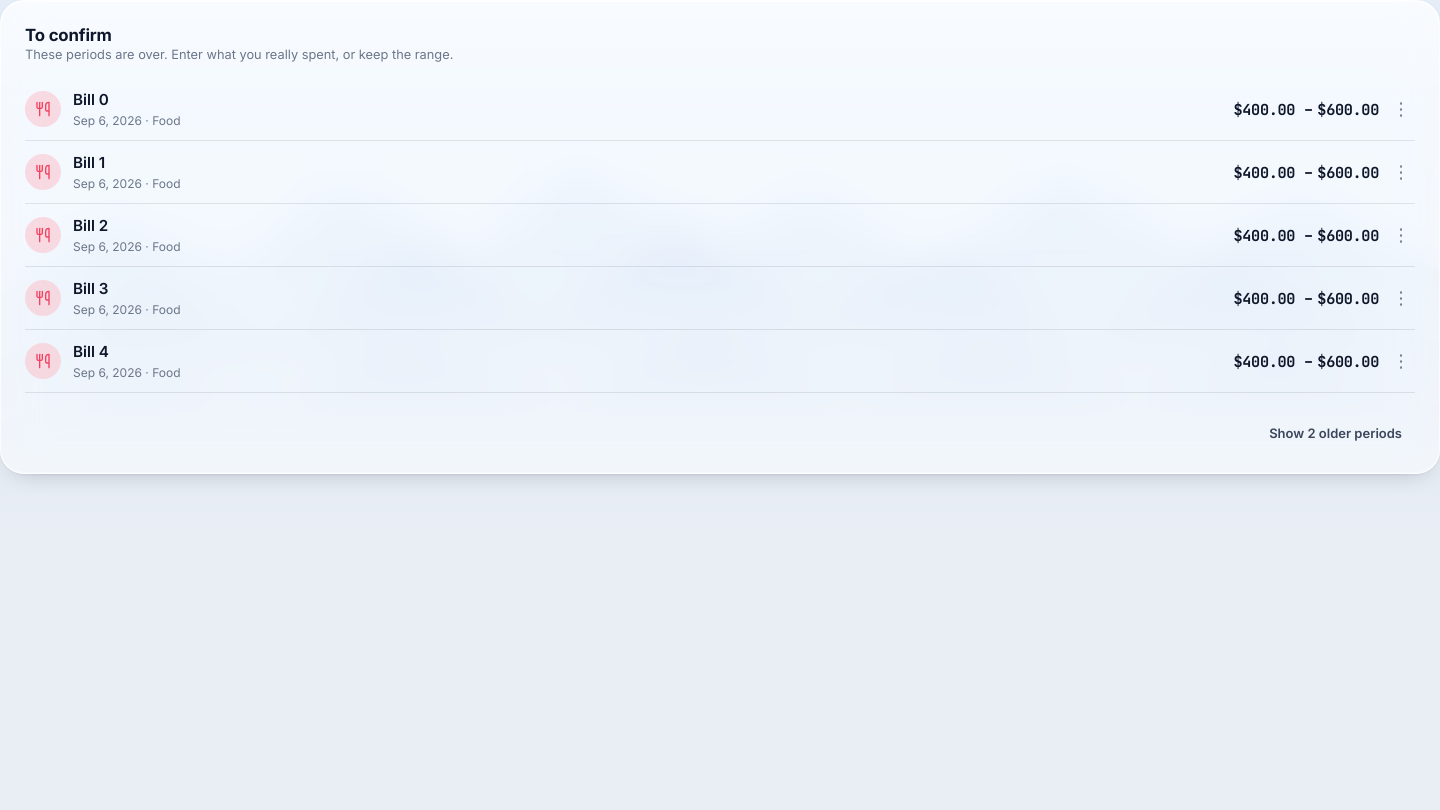
PendingConfirmations cap › shows the newest few and the older ones on demand
Expected: the text "Bill 4" is shown, [73, 342, 109, 361]
Expected: the text "Bill 5" is not shown
Click the button "Show 2 older periods" at point(1336, 433), box [1256, 417, 1415, 449]
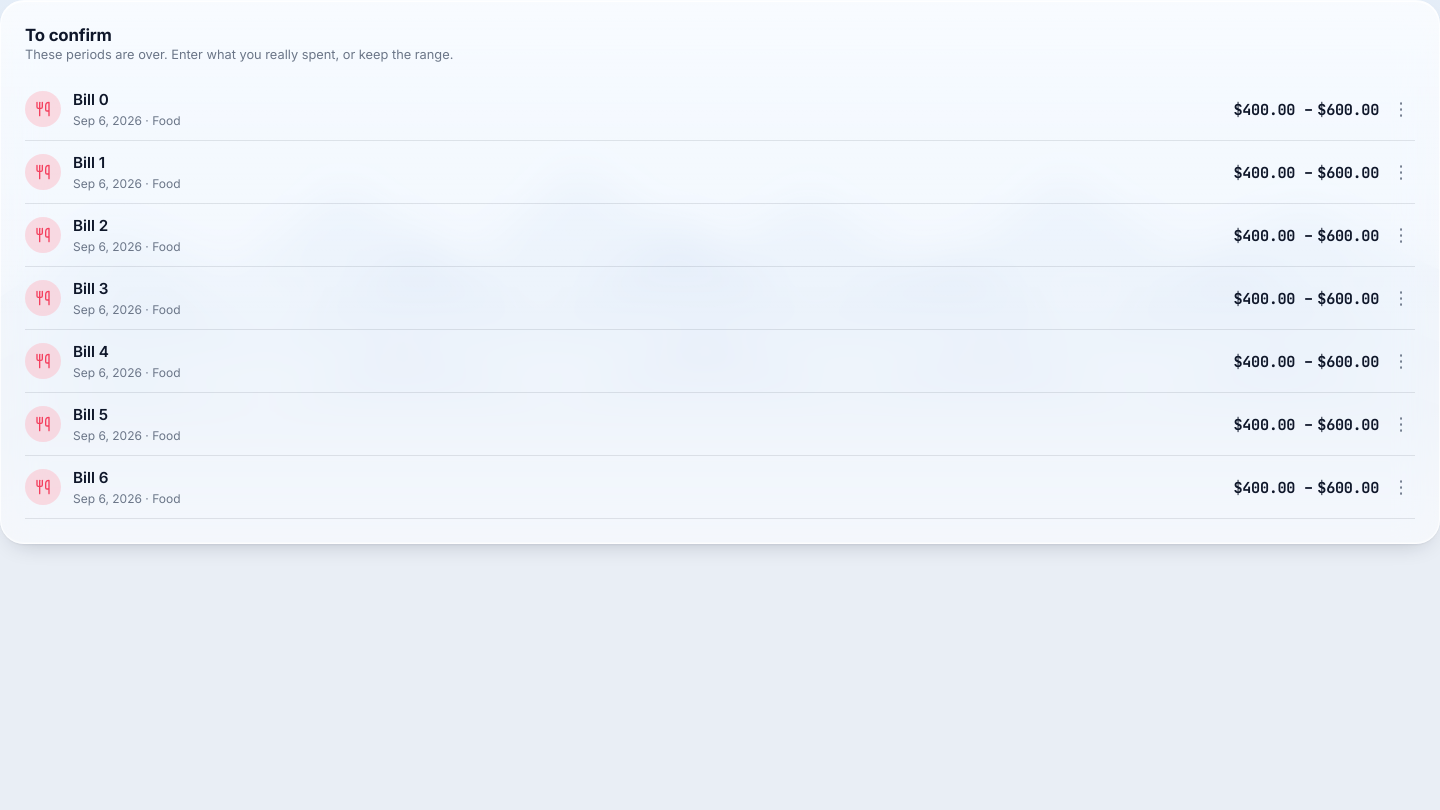
Now the text "Bill 6" is shown, box [73, 468, 108, 487]
